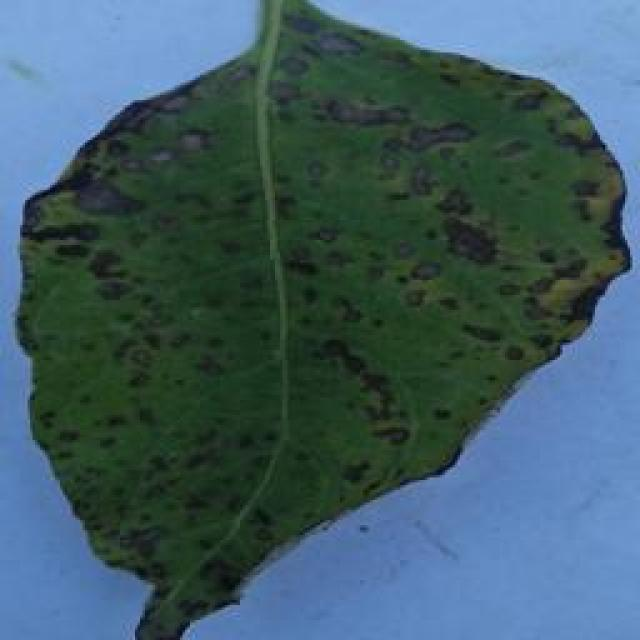Potato_Early_Blight: (7, 10, 636, 631)
